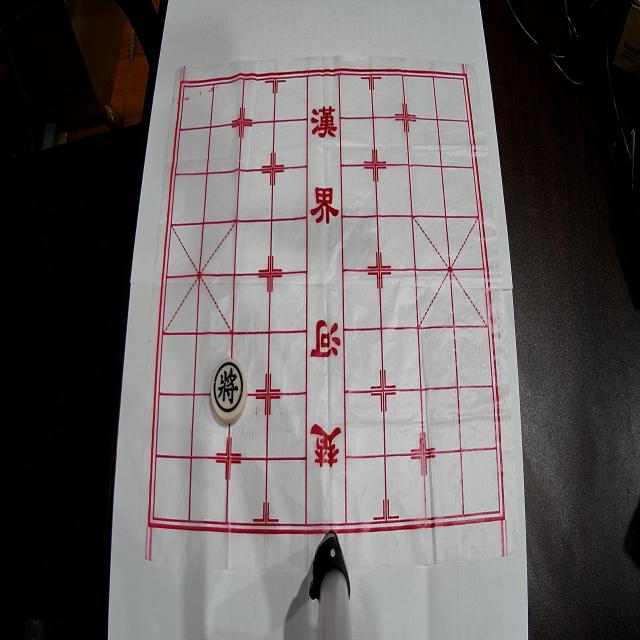black-general: (211, 358, 247, 423)
